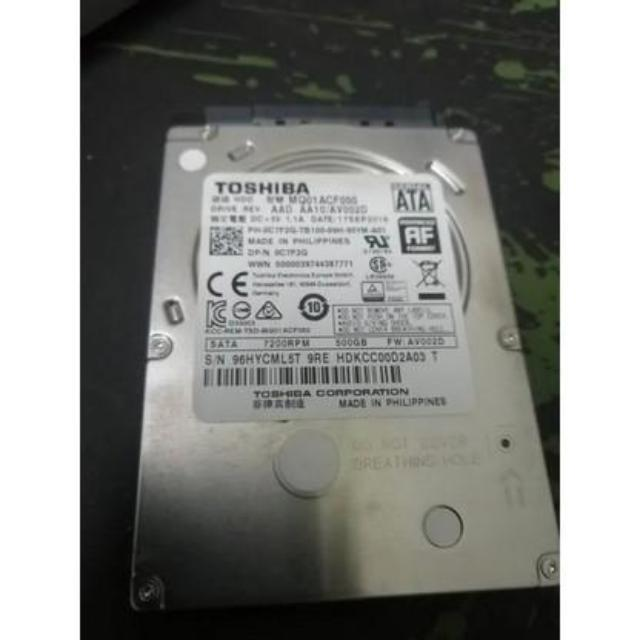DISK: (105, 88, 566, 640)
